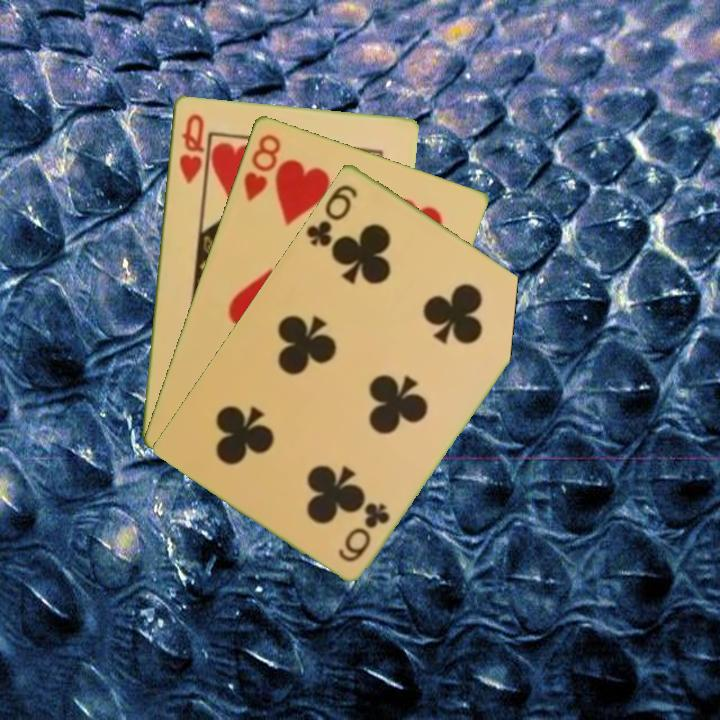6c: (302, 180, 361, 249), (334, 498, 393, 565)
8h: (239, 129, 284, 204)
Qh: (175, 110, 207, 186)
